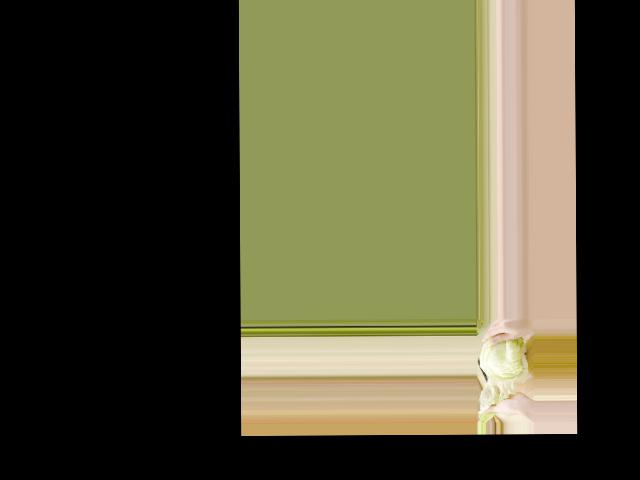lettuce: (477, 332, 531, 393)
